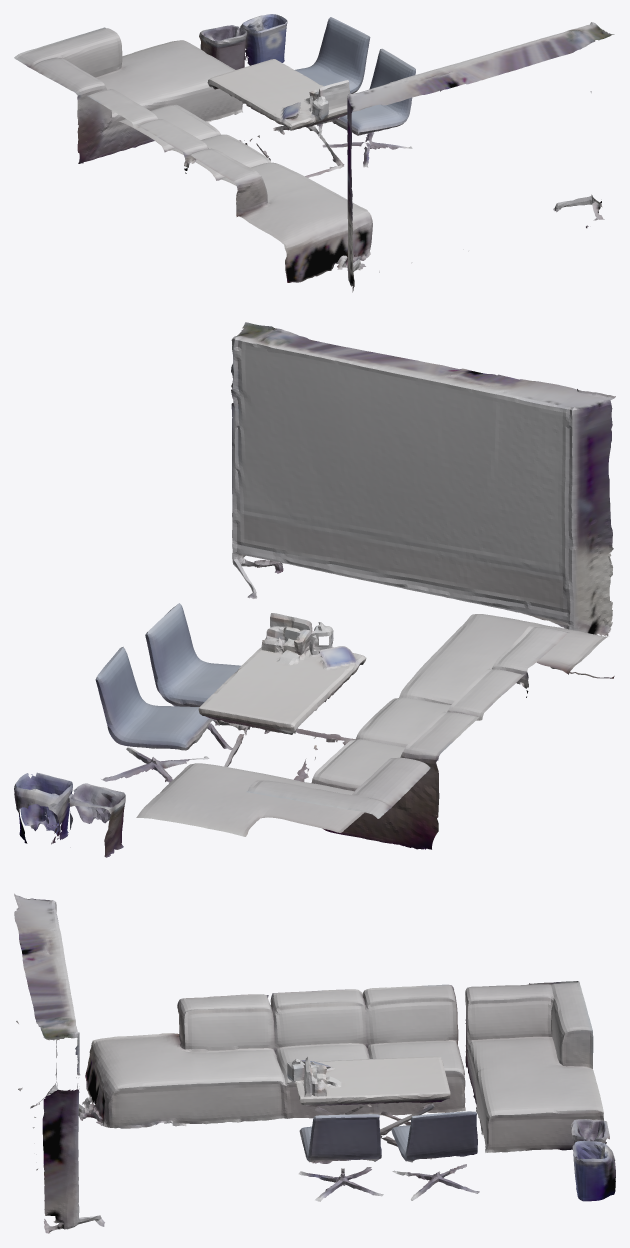
3 views of the same model, one above another, from view 1: azimuth 30°, elevation 25°; view 2: azimuth 150°, elevation 25°; view 3: azimuth 270°, elevation 25° (orthographic). The views are drawn at different scales.
Visible parts, largest first — view 1: obj_1.ply; view 2: obj_1.ply; view 3: obj_1.ply.
Boxes of the visible parts, left/top/right/bottom form: obj_1.ply: left=14, top=14, right=614, bottom=292; obj_1.ply: left=14, top=322, right=615, bottom=857; obj_1.ply: left=14, top=893, right=615, bottom=1233.
Bounding box in the file's own units: 3.49 × 1.84 × 4.79.
